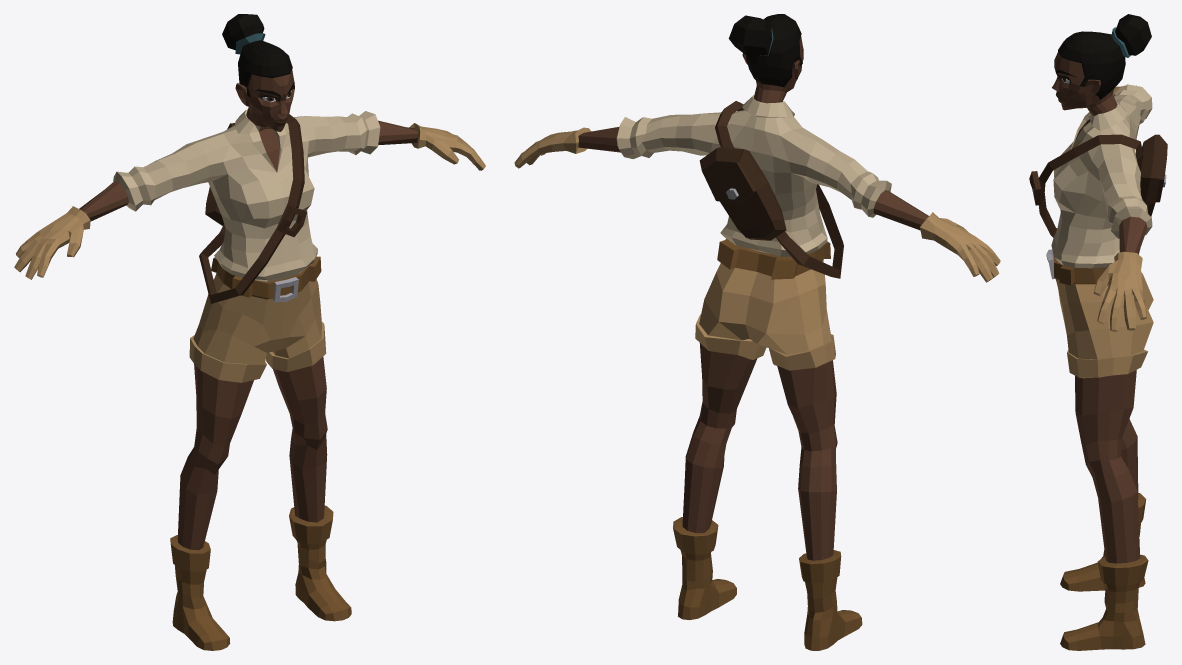
Rendered from Adventure_F_1.fbx.
The picture shows the model from 3 angles, left to right: view 1: azimuth 30°, elevation 25°; view 2: azimuth 150°, elevation 25°; view 3: azimuth 270°, elevation 25°; orthographic projection. The views are drawn at different scales.
Parts seen in each view (by area): view 1: Adventure_F_1, Adventure_F_1_Bag; view 2: Adventure_F_1, Adventure_F_1_Bag; view 3: Adventure_F_1, Adventure_F_1_Bag.
Part boxes in pixels (x1=…): Adventure_F_1: x1=14, y1=14, x2=485, y2=650; Adventure_F_1_Bag: x1=199, y1=114, x2=307, y2=303; Adventure_F_1: x1=514, y1=14, x2=1000, y2=650; Adventure_F_1_Bag: x1=699, y1=101, x2=843, y2=278; Adventure_F_1: x1=1046, y1=14, x2=1153, y2=650; Adventure_F_1_Bag: x1=1029, y1=134, x2=1167, y2=237.
Size of the model in its own units: 150 by 184 by 38.68.
Materials: 1 (1 with a texture image).
